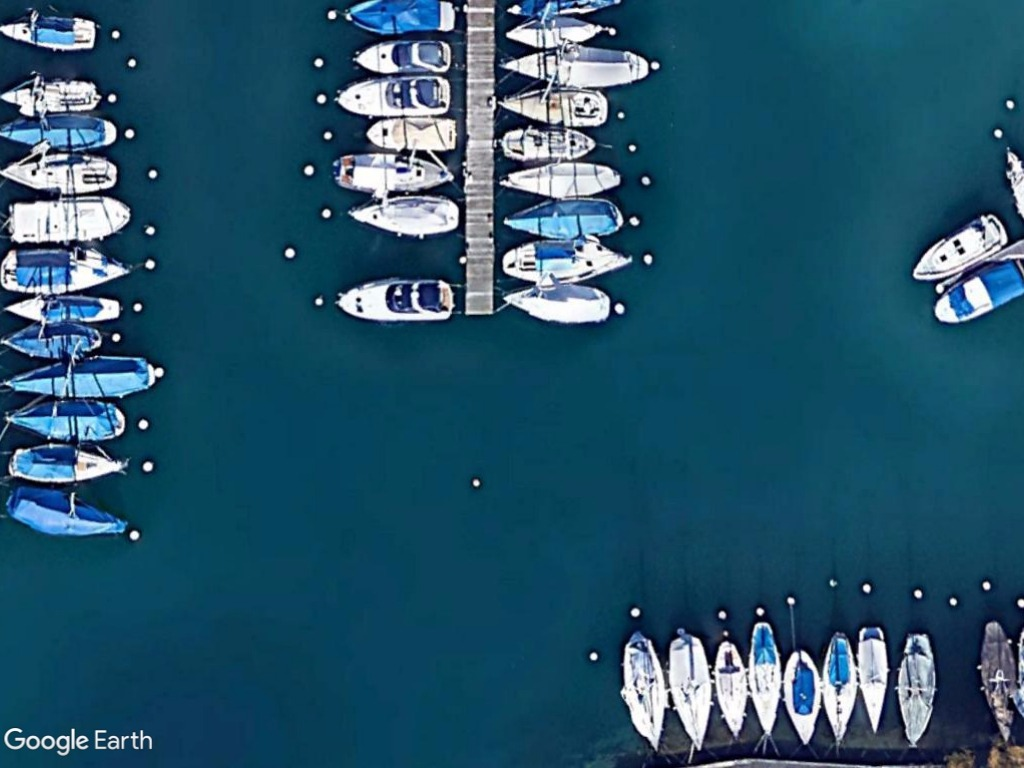boat: (906, 210, 1012, 288), (3, 189, 134, 250), (0, 480, 124, 544), (0, 240, 137, 297), (616, 623, 672, 761), (0, 351, 160, 398), (4, 389, 130, 447), (496, 46, 652, 90), (664, 627, 715, 756), (928, 259, 1024, 327), (501, 236, 634, 285), (330, 275, 463, 323), (326, 150, 458, 198), (329, 72, 458, 120), (0, 440, 138, 484), (0, 149, 122, 197), (741, 617, 787, 743), (894, 624, 940, 749), (493, 83, 612, 131), (502, 195, 626, 240), (820, 624, 862, 756), (345, 192, 464, 237), (502, 282, 616, 328), (496, 163, 629, 202), (0, 317, 107, 365), (350, 32, 459, 79), (709, 633, 753, 747), (854, 617, 893, 743), (339, 0, 463, 39), (1, 67, 101, 115), (780, 641, 823, 751), (0, 112, 120, 151), (0, 291, 125, 327), (364, 113, 466, 157), (499, 125, 601, 169), (1, 10, 99, 55), (498, 12, 609, 49)
